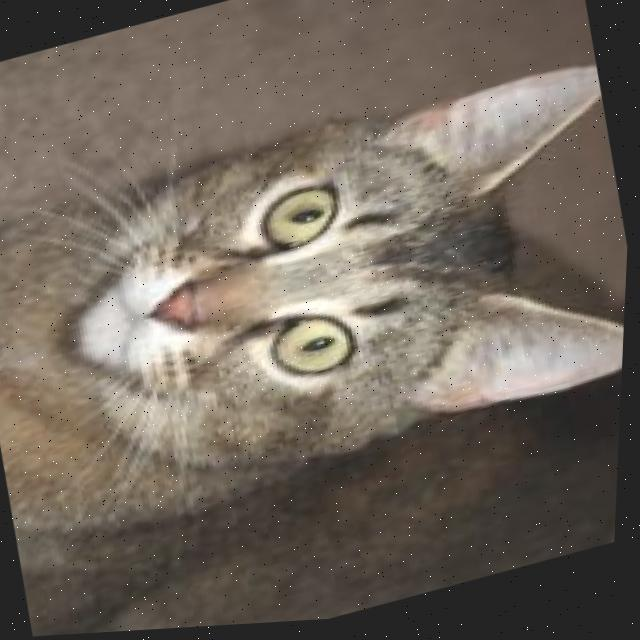Abyssinian: (0, 49, 637, 640)
